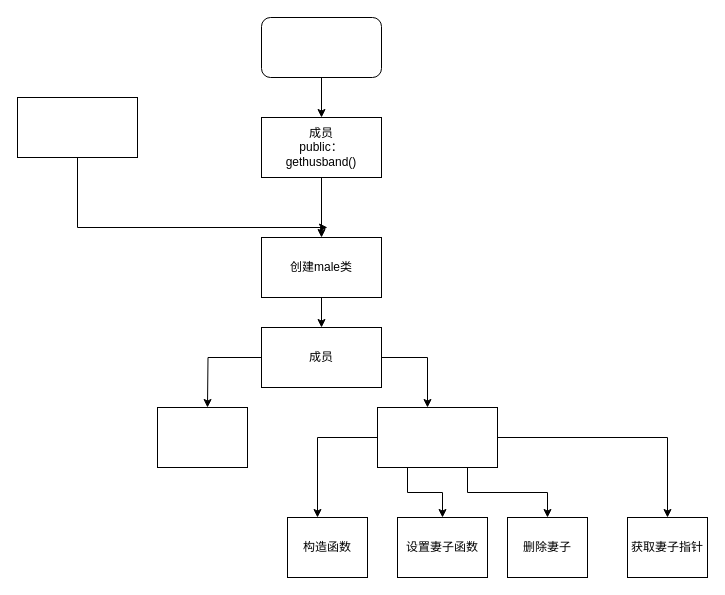
The diagram is 725 pixels wide and 595 high, and some of its shapes have lost their labels. Each missing label, with the centre of its shape:
private： 指向妻子的指针pWife: the point at 202,437
public: the point at 437,437
创建类 Female: the point at 321,47
初始化静态成员: the point at 77,127
